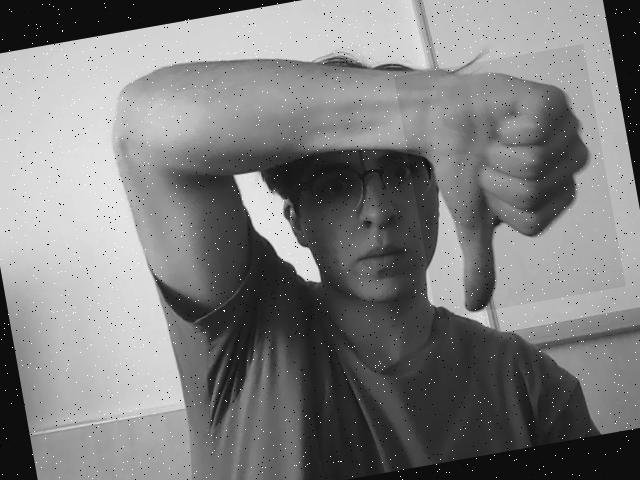bad: (394, 43, 626, 319)
